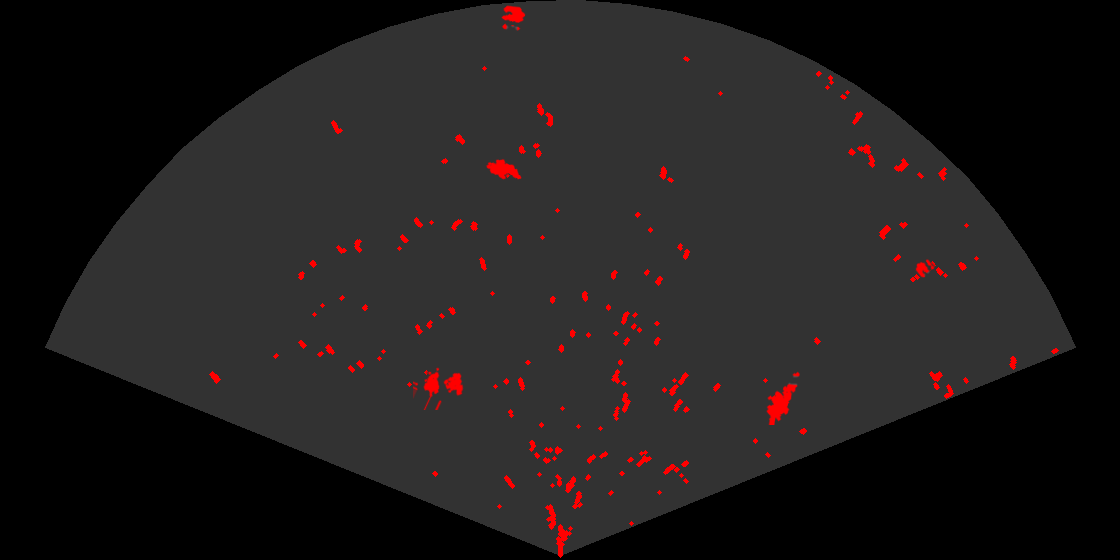AUV: (484, 157, 523, 181)
ball: (500, 4, 527, 32), (914, 258, 936, 279)
cage: (413, 366, 465, 410)
frogman: (765, 370, 801, 425)
